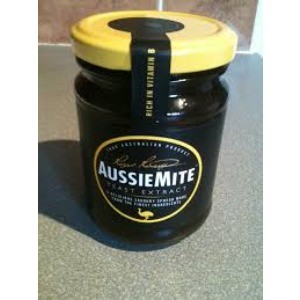yeast spread_brain food: (69, 83, 225, 208)
